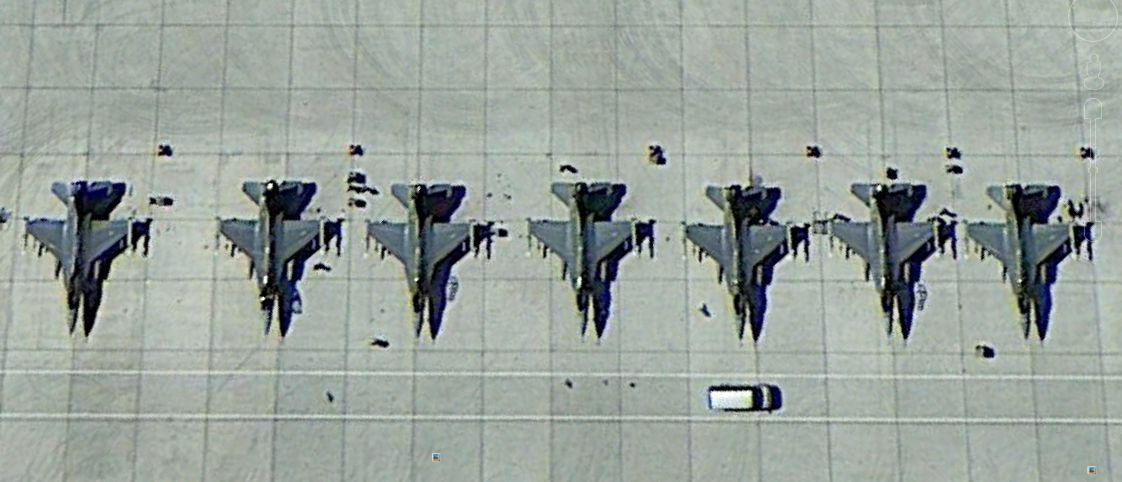F-16: (365, 179, 482, 342), (967, 181, 1082, 344), (21, 174, 137, 335), (529, 178, 644, 339), (830, 181, 942, 340), (688, 180, 796, 341), (221, 174, 326, 333)
